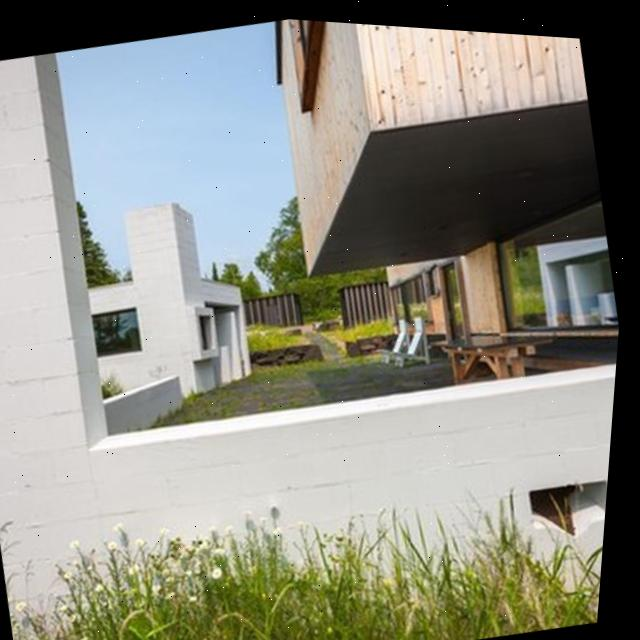building: (241, 18, 640, 429), (59, 180, 277, 421)
